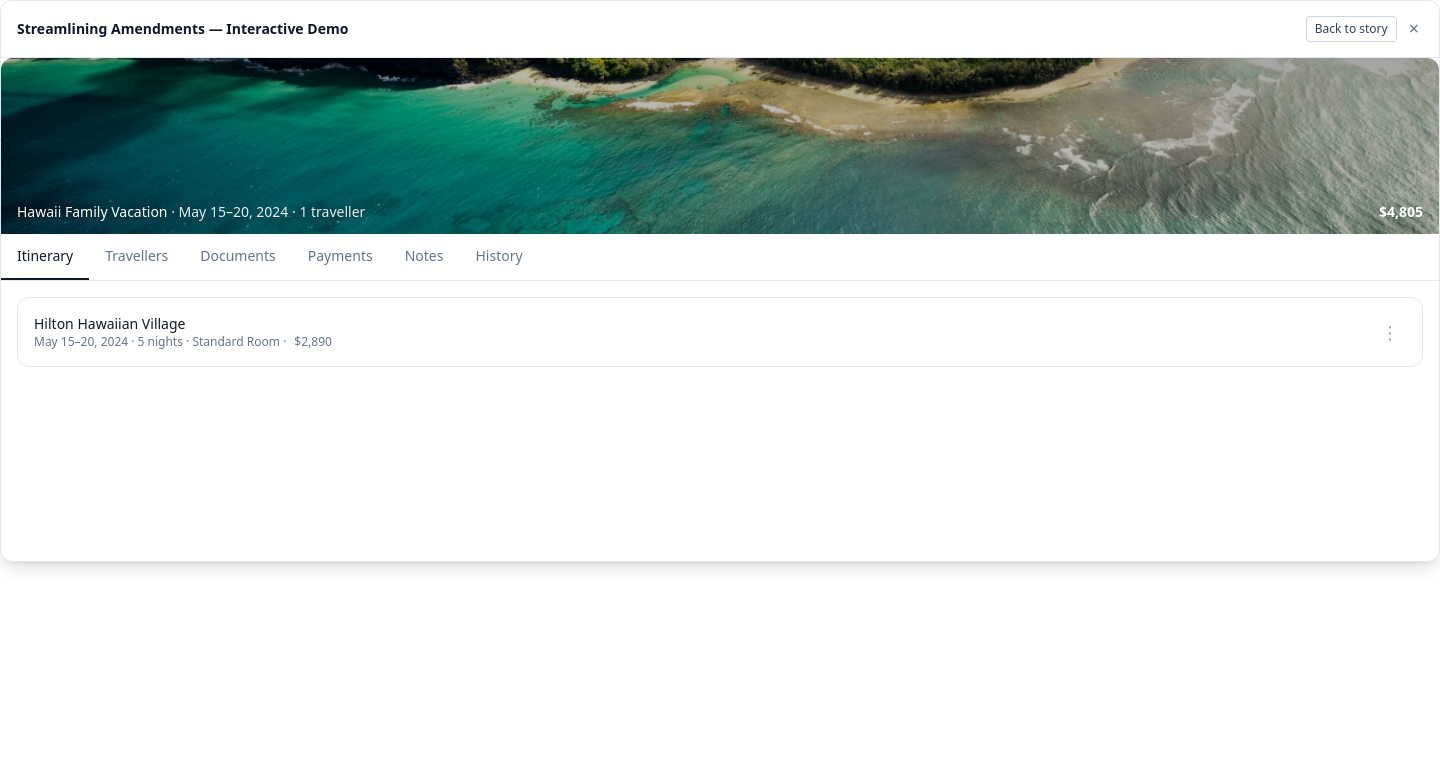
Dream flow – user flows › opens dream flow and shows calendar with default May 17-21 range
This screenshot has width=1440, height=775.
Click the button named "Actions". click: (1390, 332)
box: [1374, 316, 1406, 348]
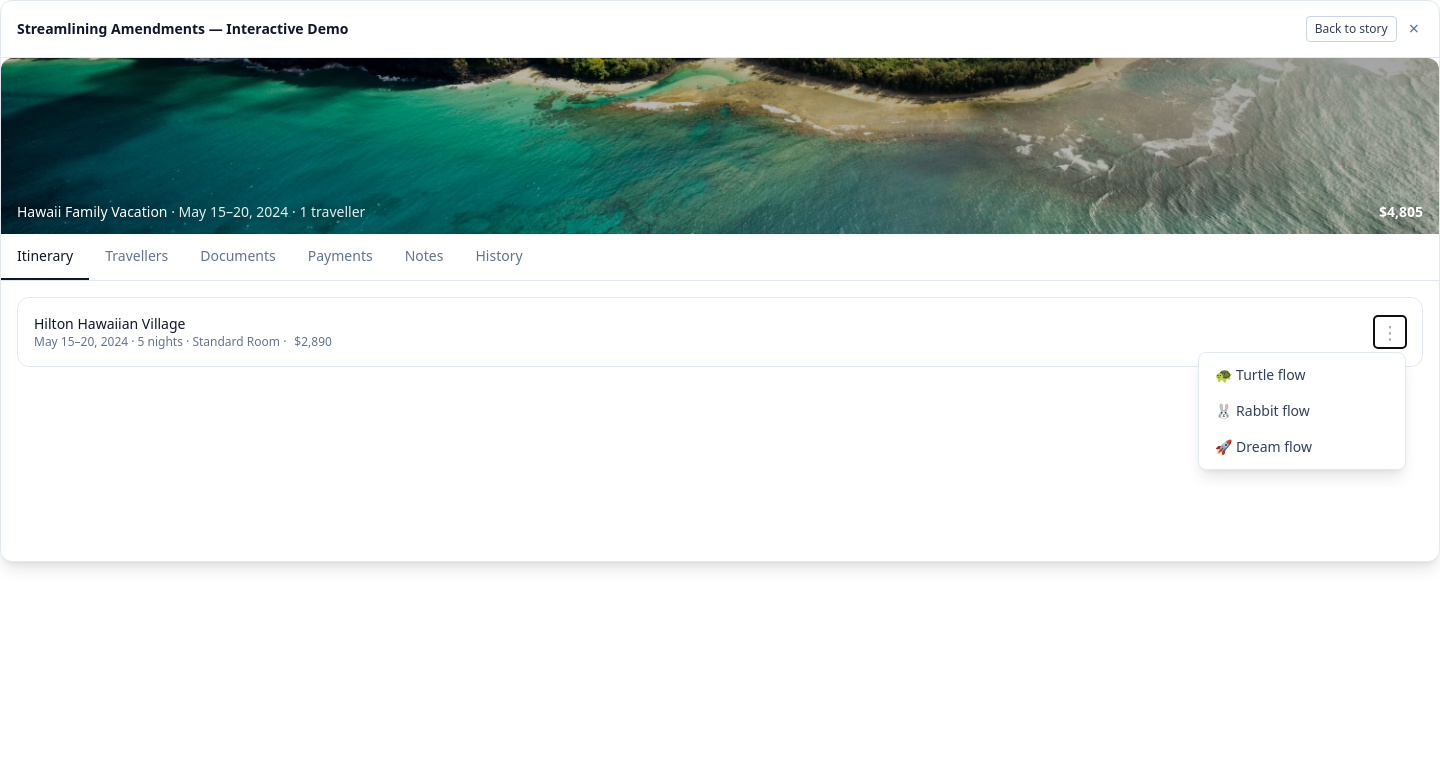
Click the button "🚀 Dream flow". click: (1302, 447)
box: [1199, 429, 1405, 465]
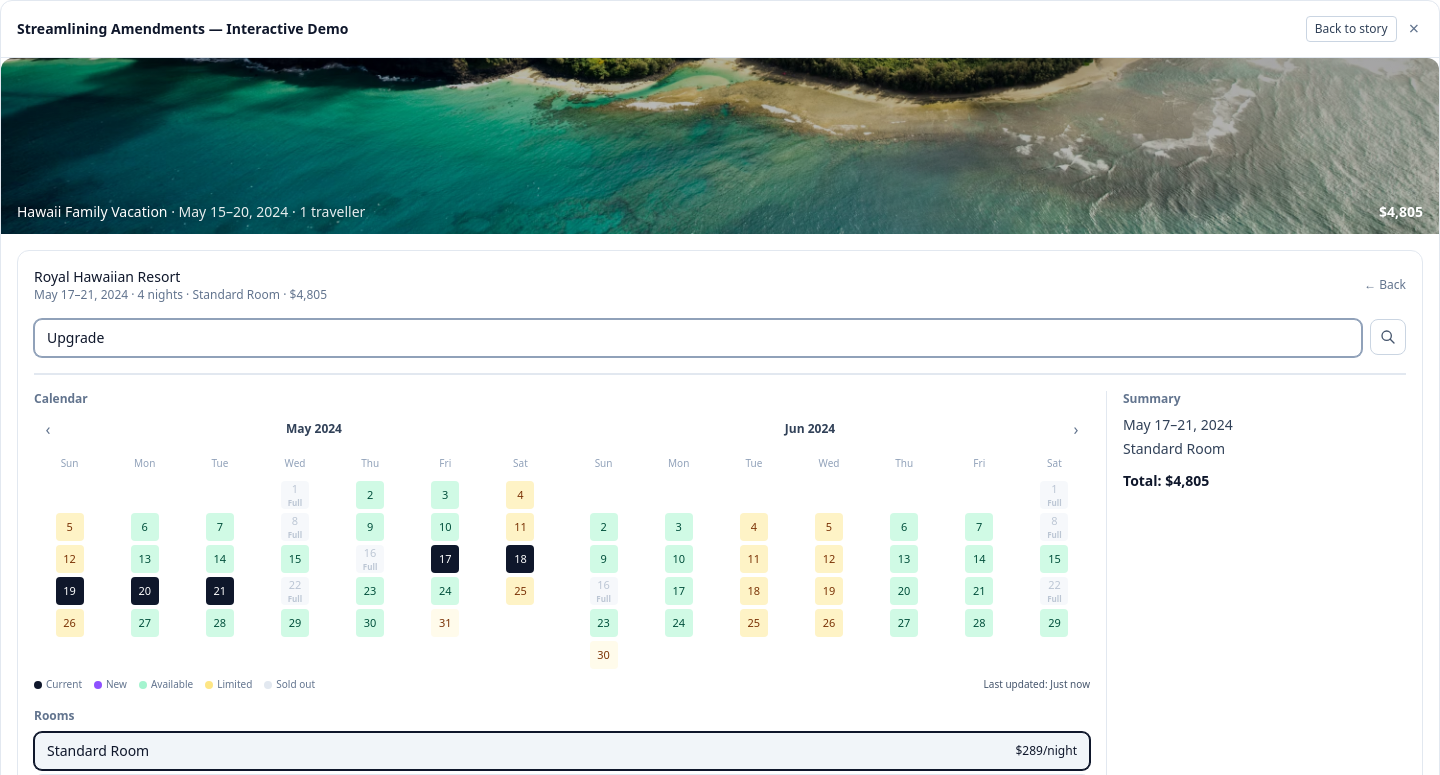
Now the text "May 17–21, 2024 · 4 nights · Standard Room · $4,805" is shown, box [34, 286, 327, 303]
